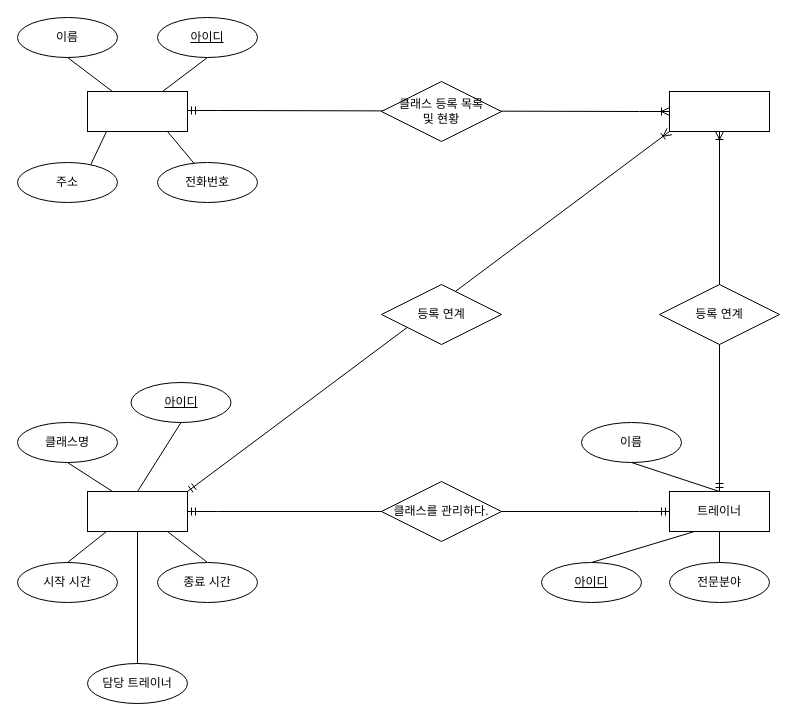
Image size: 797x722. Some labels were removed from this diagram. The shapes that lost their labels are listed below. From the top down, each one's centre as x and y in pixels, then its label:
At (137,111): "회원".
At (719,111): "클래스 등록".
At (137,511): "강습 클래스".
